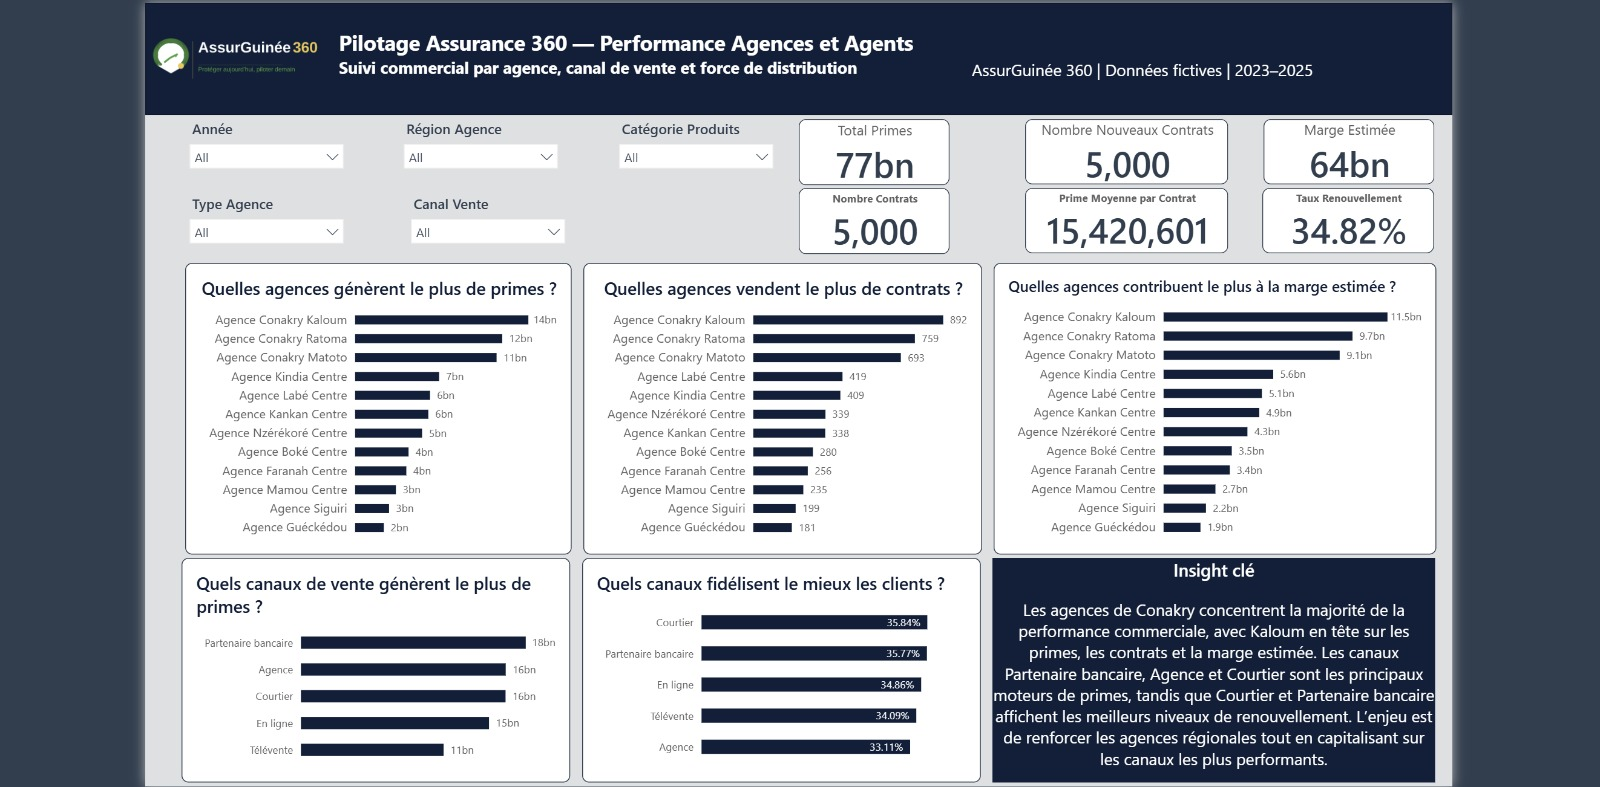

This screenshot's page, from the dashboard's own definition file:
{"tool":"powerbi","page":{"name":"Performance Agences","canvas":[1500,900],"ordinal":4},"visuals":[{"type":"shape","box":[0,0,1500,128.6],"z":0},{"type":"image","box":[2,1,201,128],"z":1000},{"type":"textbox","box":[221.8,29.9,750.7,68.2],"z":2000},{"type":"textbox","box":[948.3,64,449.3,55.5],"z":3000},{"type":"cardVisual","fields":{"Data":["Mesures.Total Primes"]},"box":[750,132.9,173,76],"z":4000},{"type":"cardVisual","fields":{"Data":["Mesures.Nombre Nouveaux Contrats"]},"box":[1010.3,132.9,233.3,75.7],"z":5000},{"type":"cardVisual","fields":{"Data":["Mesures.Marge Estimée"]},"box":[1283.7,132.9,196.2,75.7],"z":6000},{"type":"cardVisual","fields":{"Data":["Mesures.Prime Moyenne par Contrat"]},"box":[1010.3,213.2,233.3,75.7],"z":7000},{"type":"cardVisual","fields":{"Data":["Mesures.Taux Renouvellement"]},"box":[1282.2,213.2,197.7,75.7],"z":8000},{"type":"cardVisual","fields":{"Data":["Mesures.Nombre Contrats"]},"box":[750,212.9,173,76],"z":9000},{"type":"slicer","fields":{"Values":["Objectifs.Annee"]},"box":[45.7,132.9,187.1,61.4],"z":10000},{"type":"slicer","fields":{"Values":["Agences.Region Agence"]},"box":[292.1,132.9,187.1,61.4],"z":11000},{"type":"slicer","fields":{"Values":["Agences.Type Agence"]},"box":[45.7,220,187.1,61.4],"z":12000},{"type":"slicer","fields":{"Values":["Agents.Canal Vente"]},"box":[300.6,220,187.1,61.4],"z":13000},{"type":"slicer","fields":{"Values":["Produits.Categorie Produit"]},"box":[538.6,132.9,187.1,61.4],"z":14000},{"type":"clusteredBarChart","title":"Quelles agences génèrent le plus de primes ?","fields":{"Category":["Agences.Nom Agence"],"Y":["Mesures.Total Primes"]},"box":[46.3,298.1,443.4,335.2],"z":15000},{"type":"clusteredBarChart","title":"Quelles agences vendent le plus de contrats ?","fields":{"Category":["Agences.Nom Agence"],"Y":["Mesures.Nombre Contrats"]},"box":[502.8,298.1,457.3,335.2],"z":16000},{"type":"clusteredBarChart","title":"Quels canaux de vente génèrent le plus de primes ?","fields":{"Category":["Agents.Canal Vente"],"Y":["Mesures.Total Primes"]},"box":[41.8,638,446.2,258.2],"z":17000},{"type":"clusteredBarChart","title":"Quels canaux fidélisent le mieux les clients ?","fields":{"Category":["Agents.Canal Vente"],"Y":["Mesures.Taux Renouvellement"]},"box":[501.2,638,457.3,258],"z":18000},{"type":"textbox","title":"Insight clé","box":[971.7,638,508.2,258],"z":19000},{"type":"clusteredBarChart","title":"Quelles agences contribuent le plus à la marge estimée ?","fields":{"Category":["Agences.Nom Agence"],"Y":["Mesures.Marge Estimée"]},"box":[973.2,298.1,508.2,335.2],"z":20000}]}

Visuals, with their boxes on the page's 1500x900 design canvas (x1, y1, x2, y2). These are canvas units, not pixel positions in the 1600x787 screenshot, which may show the page scaled, cropped or inside an application window:
shape: (x1=0, y1=0, x2=1500, y2=129)
image: (x1=2, y1=1, x2=203, y2=129)
textbox: (x1=222, y1=30, x2=972, y2=98)
textbox: (x1=948, y1=64, x2=1398, y2=120)
cardVisual - Mesures.Total Primes: (x1=750, y1=133, x2=923, y2=209)
cardVisual - Mesures.Nombre Nouveaux Contrats: (x1=1010, y1=133, x2=1244, y2=209)
cardVisual - Mesures.Marge Estimée: (x1=1284, y1=133, x2=1480, y2=209)
cardVisual - Mesures.Prime Moyenne par Contrat: (x1=1010, y1=213, x2=1244, y2=289)
cardVisual - Mesures.Taux Renouvellement: (x1=1282, y1=213, x2=1480, y2=289)
cardVisual - Mesures.Nombre Contrats: (x1=750, y1=213, x2=923, y2=289)
slicer - Objectifs.Annee: (x1=46, y1=133, x2=233, y2=194)
slicer - Agences.Region Agence: (x1=292, y1=133, x2=479, y2=194)
slicer - Agences.Type Agence: (x1=46, y1=220, x2=233, y2=281)
slicer - Agents.Canal Vente: (x1=301, y1=220, x2=488, y2=281)
slicer - Produits.Categorie Produit: (x1=539, y1=133, x2=726, y2=194)
"Quelles agences génèrent le plus de primes ?" clusteredBarChart: (x1=46, y1=298, x2=490, y2=633)
"Quelles agences vendent le plus de contrats ?" clusteredBarChart: (x1=503, y1=298, x2=960, y2=633)
"Quels canaux de vente génèrent le plus de primes ?" clusteredBarChart: (x1=42, y1=638, x2=488, y2=896)
"Quels canaux fidélisent le mieux les clients ?" clusteredBarChart: (x1=501, y1=638, x2=958, y2=896)
"Insight clé" textbox: (x1=972, y1=638, x2=1480, y2=896)
"Quelles agences contribuent le plus à la marge estimée ?" clusteredBarChart: (x1=973, y1=298, x2=1481, y2=633)
